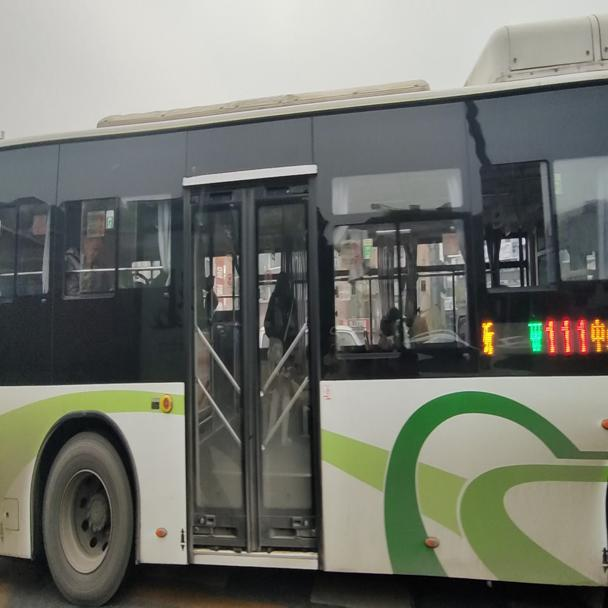bus: (2, 22, 605, 594)
screen: (544, 308, 590, 360)
